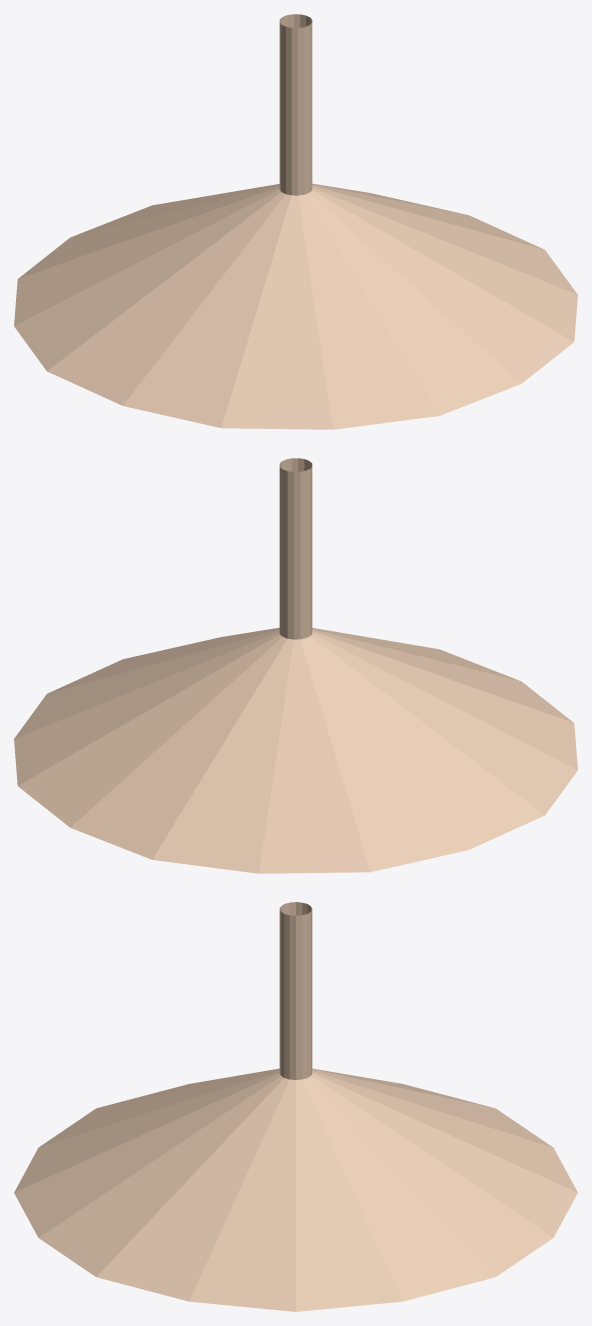
File: Lamppu1.fbx
The picture shows the model from 3 angles, top to bottom: view 1: azimuth 30°, elevation 25°; view 2: azimuth 150°, elevation 25°; view 3: azimuth 270°, elevation 25°; orthographic projection.
Visible parts, largest first — view 1: Lamppu1; view 2: Lamppu1; view 3: Lamppu1.
Part boxes in pixels (x1,y1,x2,y2): Lamppu1: [14, 14, 577, 429]; Lamppu1: [14, 458, 577, 873]; Lamppu1: [14, 902, 577, 1311].
Bounding box in the file's own units: 84.14 × 46.72 × 84.14.
